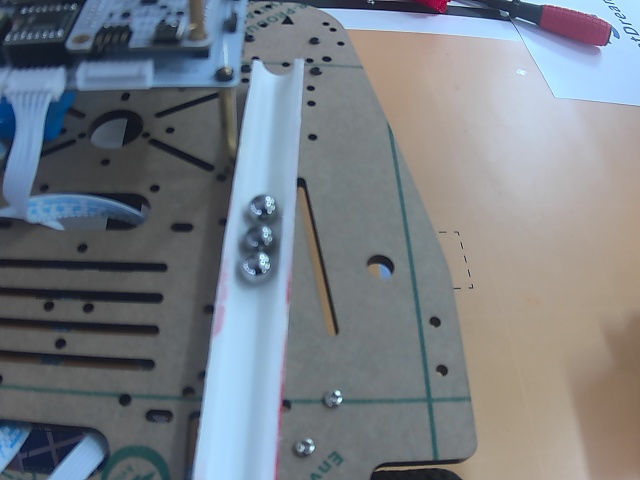steelball: (240, 252, 271, 281), (243, 224, 275, 251), (247, 194, 276, 220)
